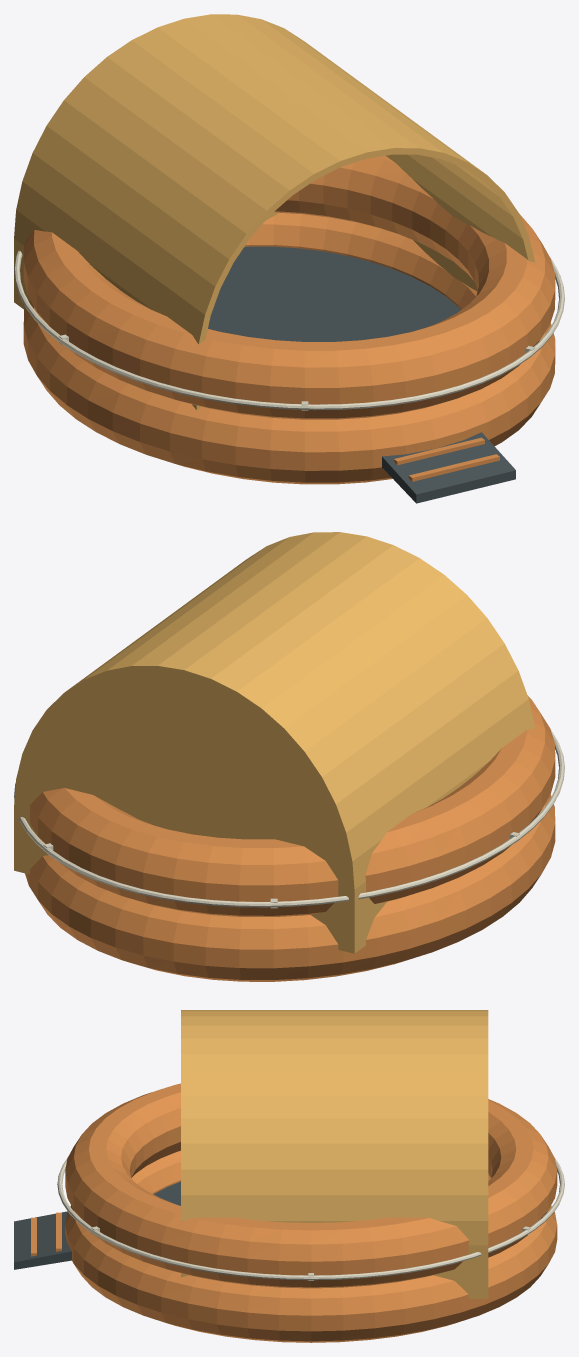
The picture shows the model from 3 angles, top to bottom: view 1: azimuth 30°, elevation 25°; view 2: azimuth 150°, elevation 25°; view 3: azimuth 270°, elevation 25°; orthographic projection. The views are drawn at different scales.
Parts seen in each view (by area): view 1: WholeThickOpenFrontCanopy, WholeUpperOvalTube, WholeGroundFootLowerOvalTube, WholeRecessedFloor, WholeFrontBoardingTongue, WholeContinuousOuterGrabRope, WholeTongueRidge_0, WholeTongueRidge_1; view 2: WholeThickOpenFrontCanopy, WholeUpperOvalTube, WholeGroundFootLowerOvalTube, WholeContinuousOuterGrabRope; view 3: WholeThickOpenFrontCanopy, WholeUpperOvalTube, WholeGroundFootLowerOvalTube, WholeContinuousOuterGrabRope, WholeFrontBoardingTongue.
Boxes of the visible parts, bbox=[...] form: WholeThickOpenFrontCanopy: bbox=[14, 14, 535, 410]; WholeUpperOvalTube: bbox=[23, 155, 555, 419]; WholeGroundFootLowerOvalTube: bbox=[23, 212, 555, 484]; WholeRecessedFloor: bbox=[208, 246, 460, 341]; WholeFrontBoardingTongue: bbox=[382, 432, 515, 503]; WholeContinuousOuterGrabRope: bbox=[14, 250, 564, 410]; WholeTongueRidge_0: bbox=[408, 454, 499, 481]; WholeTongueRidge_1: bbox=[394, 437, 484, 465]; WholeThickOpenFrontCanopy: bbox=[14, 532, 535, 953]; WholeUpperOvalTube: bbox=[30, 695, 555, 916]; WholeGroundFootLowerOvalTube: bbox=[25, 794, 555, 981]; WholeContinuousOuterGrabRope: bbox=[14, 730, 564, 907]; WholeThickOpenFrontCanopy: bbox=[181, 1010, 488, 1298]; WholeUpperOvalTube: bbox=[65, 1083, 557, 1288]; WholeGroundFootLowerOvalTube: bbox=[65, 1150, 557, 1342]; WholeContinuousOuterGrabRope: bbox=[57, 1157, 564, 1280]; WholeFrontBoardingTongue: bbox=[14, 1211, 71, 1269].
Size of the model in its own units: 2.68 by 1.56 by 3.3.
